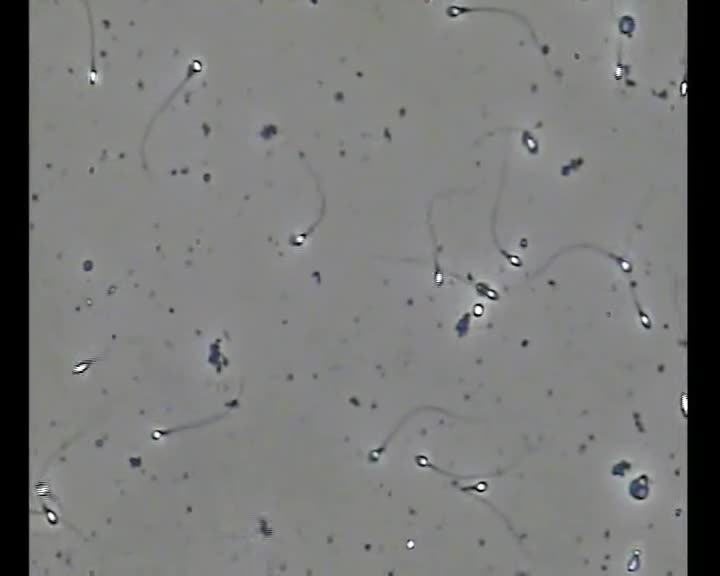spermhead: (628, 473, 649, 501), (475, 282, 499, 300), (618, 14, 636, 37), (521, 130, 538, 153), (502, 250, 522, 267), (446, 4, 470, 18), (72, 359, 94, 374), (626, 551, 640, 573), (187, 58, 205, 75), (43, 506, 58, 525), (616, 256, 632, 273), (34, 481, 51, 497), (638, 310, 652, 329), (368, 446, 384, 462), (414, 453, 431, 468), (289, 232, 307, 246), (151, 427, 168, 441), (469, 480, 487, 493), (434, 267, 445, 286), (88, 68, 99, 85), (614, 63, 625, 80), (472, 302, 484, 317), (680, 392, 687, 417), (679, 77, 686, 96)
